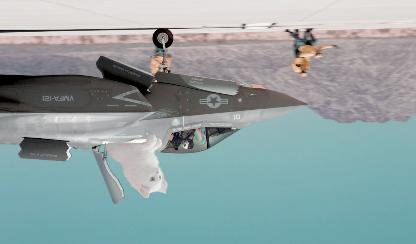F22: (1, 27, 309, 204)
